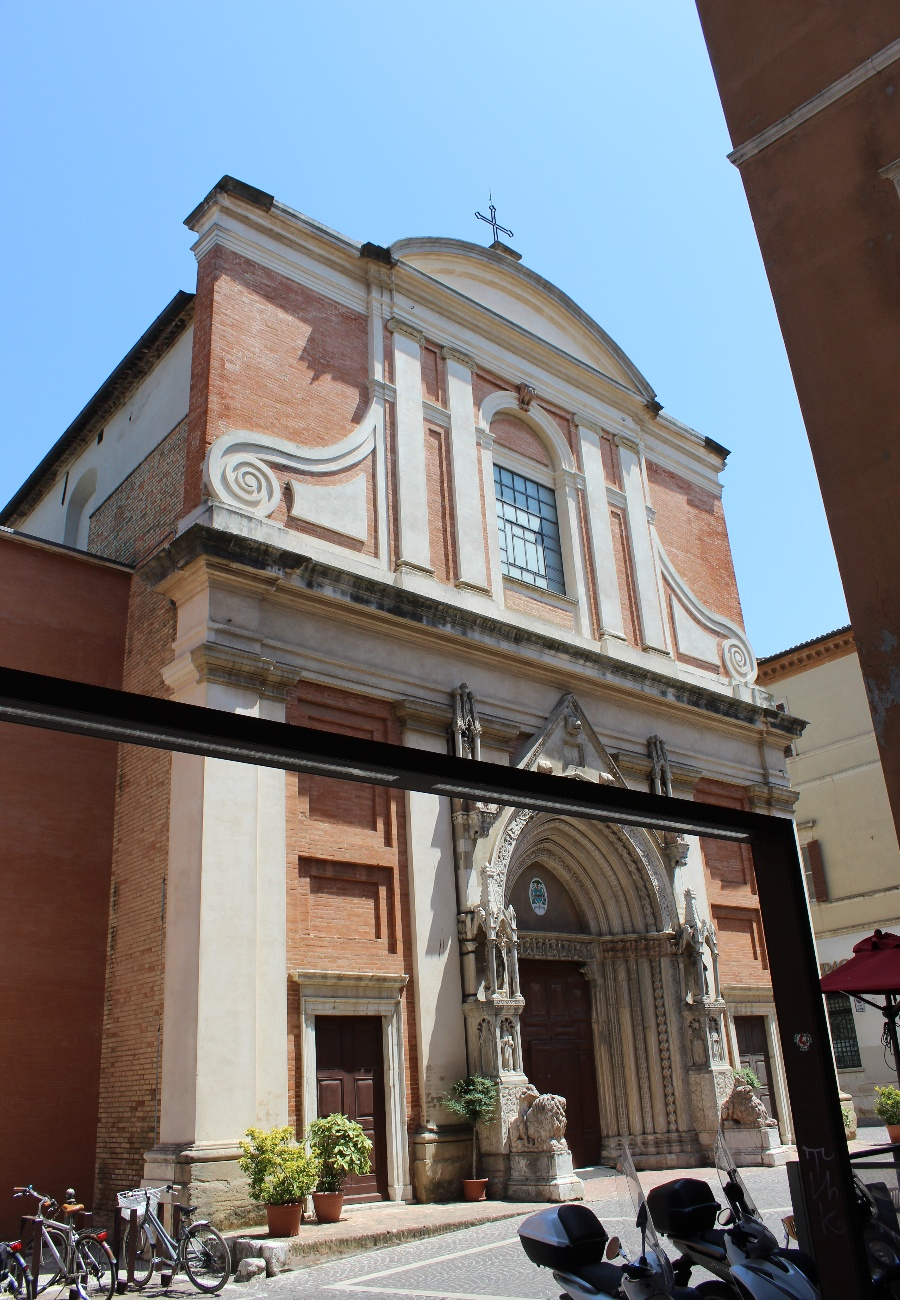Chiesa San Agostino: (151, 172, 801, 1211)
